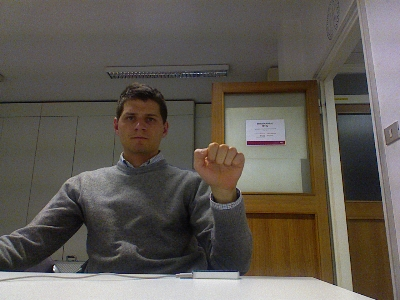石头: (192, 141, 245, 190)
